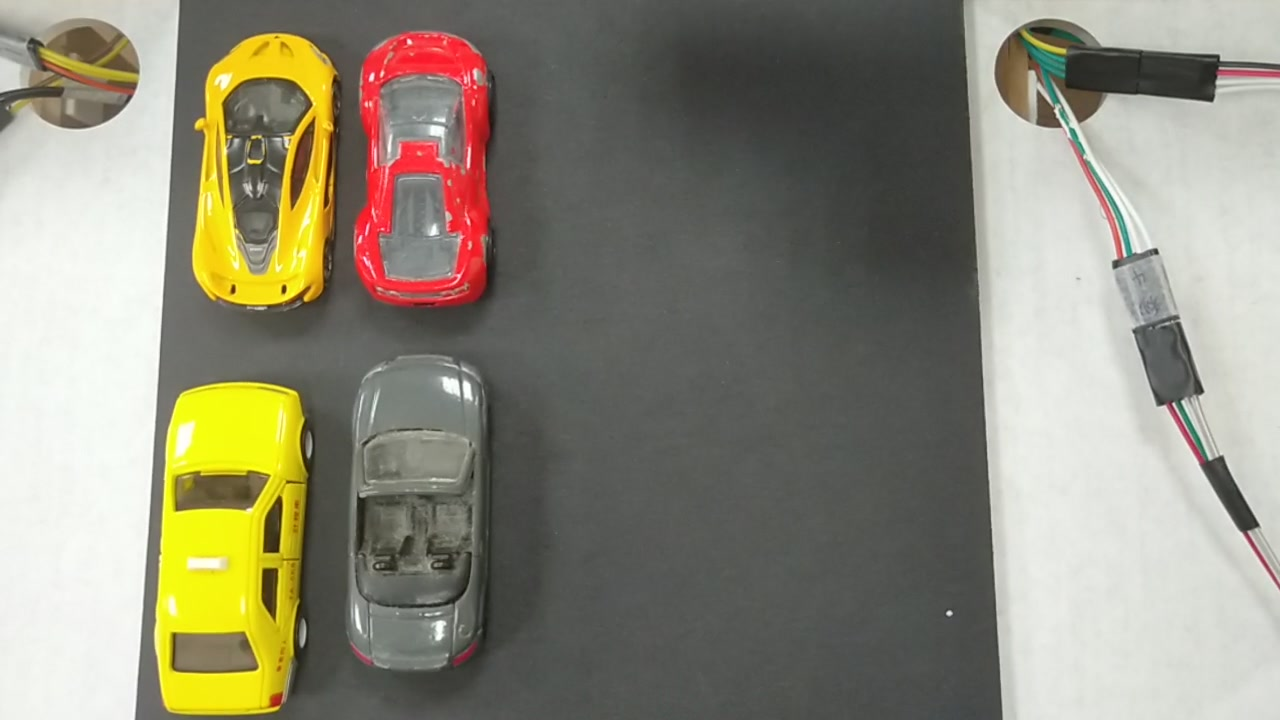car: (155, 391, 308, 711), (351, 356, 489, 672), (199, 26, 339, 305), (358, 30, 487, 306)
